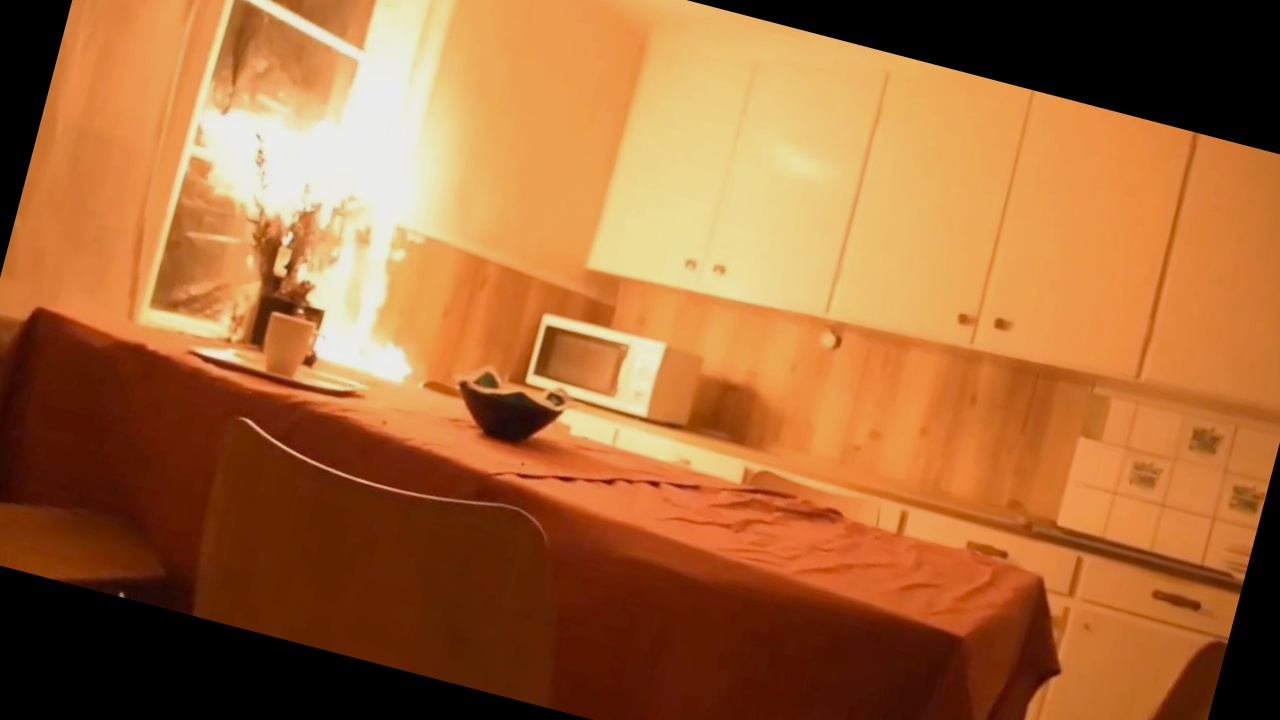fire: (139, 27, 498, 396)
